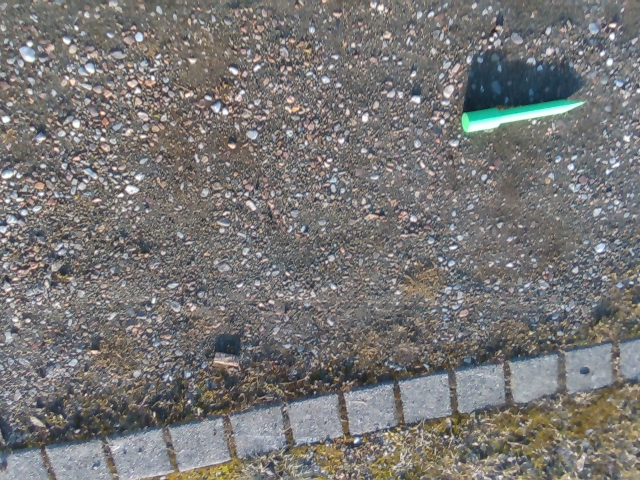Probe: (460, 96, 591, 134)
